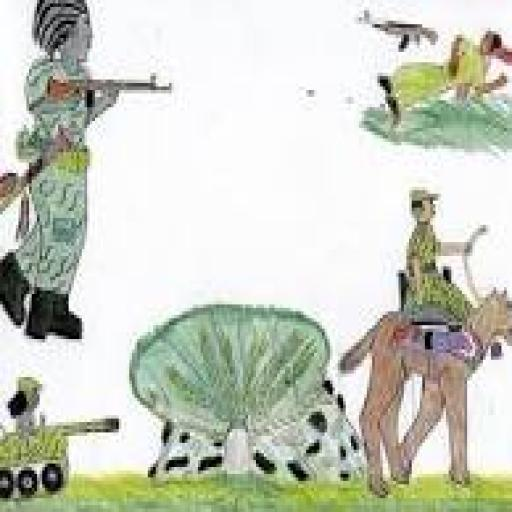person: (1, 0, 182, 345), (371, 179, 491, 325), (340, 25, 512, 118), (6, 374, 44, 442)
